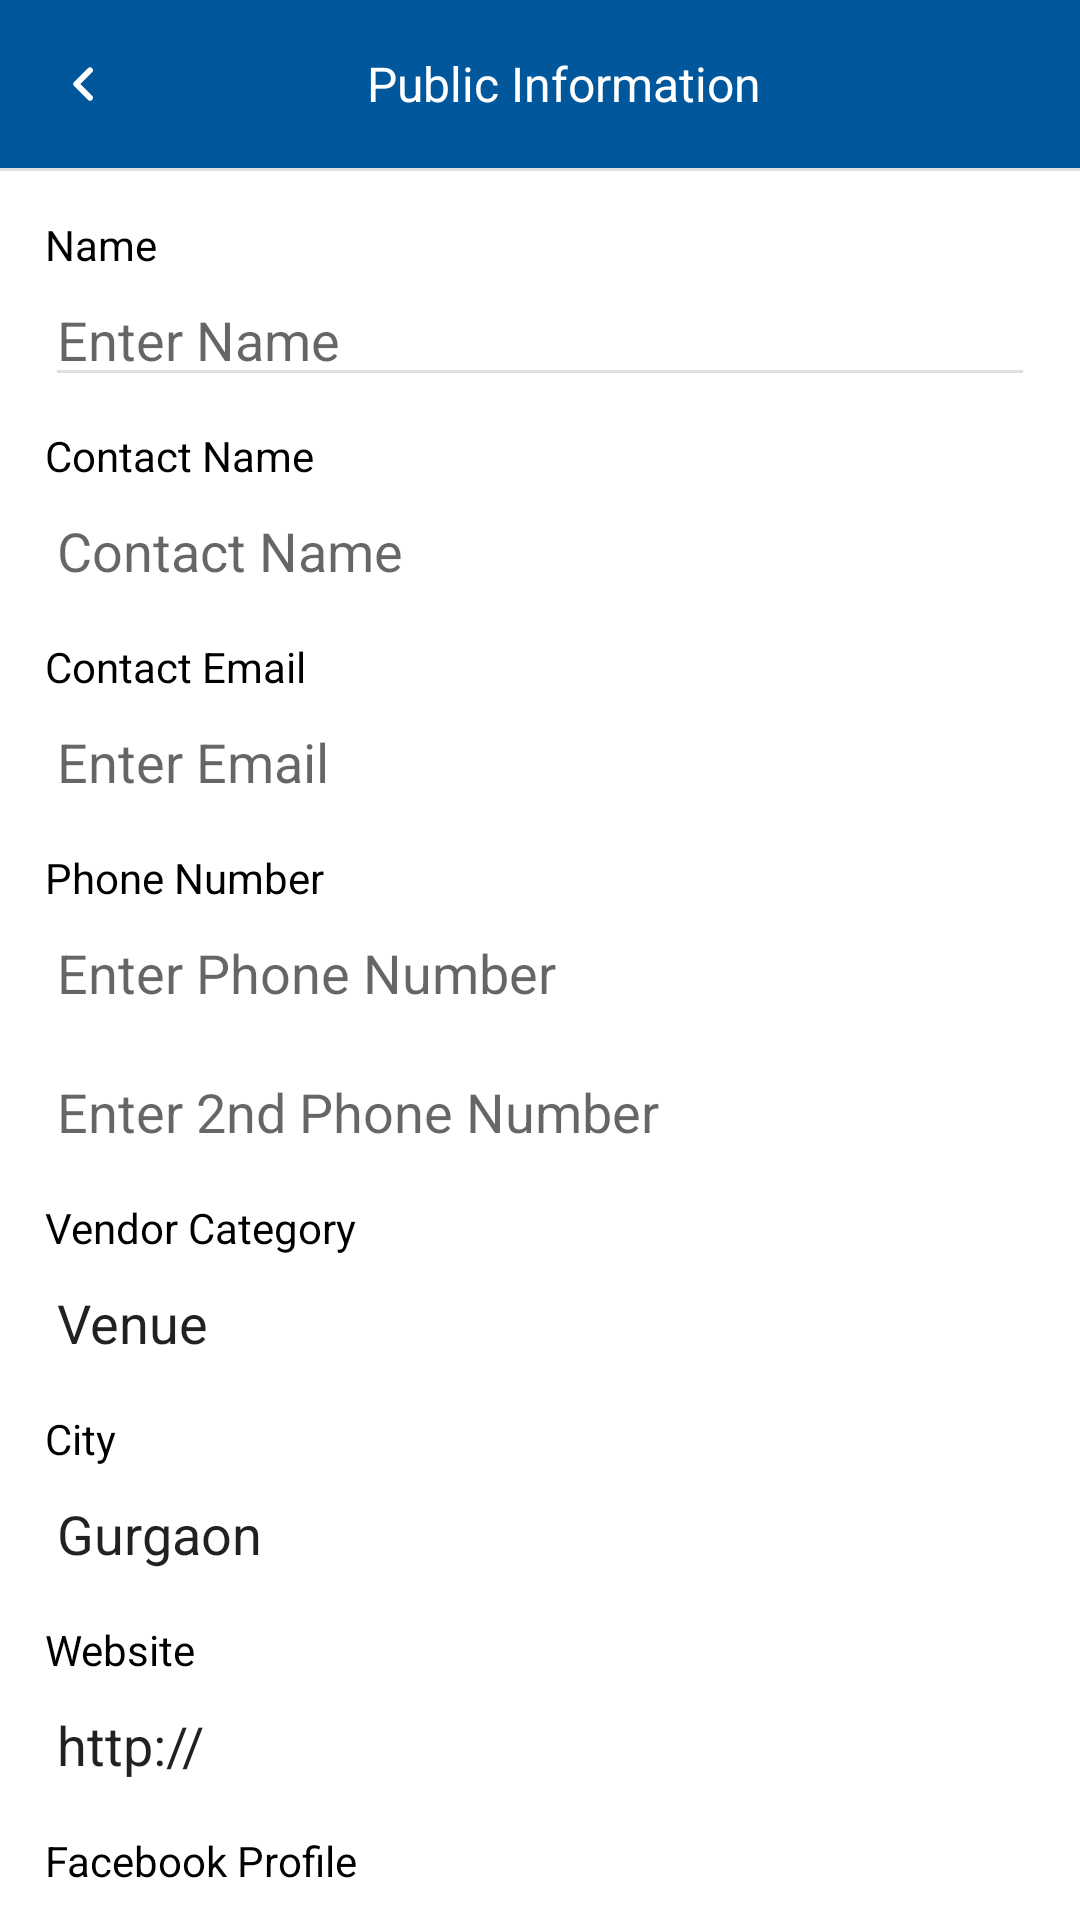

Icons on this 1080×1920 Android screen, each with its box as (x1, y1, x2, y2):
keyboard arrow left: (73, 67, 93, 101)
